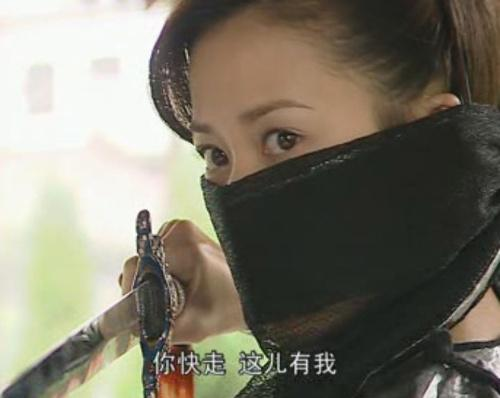OK: (193, 79, 442, 328)
